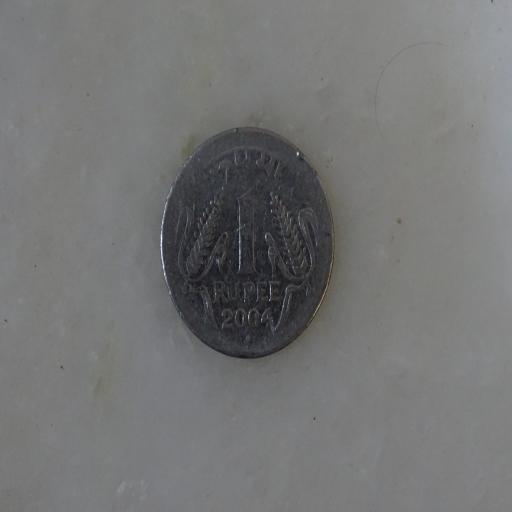rupee1: (158, 127, 335, 358)
